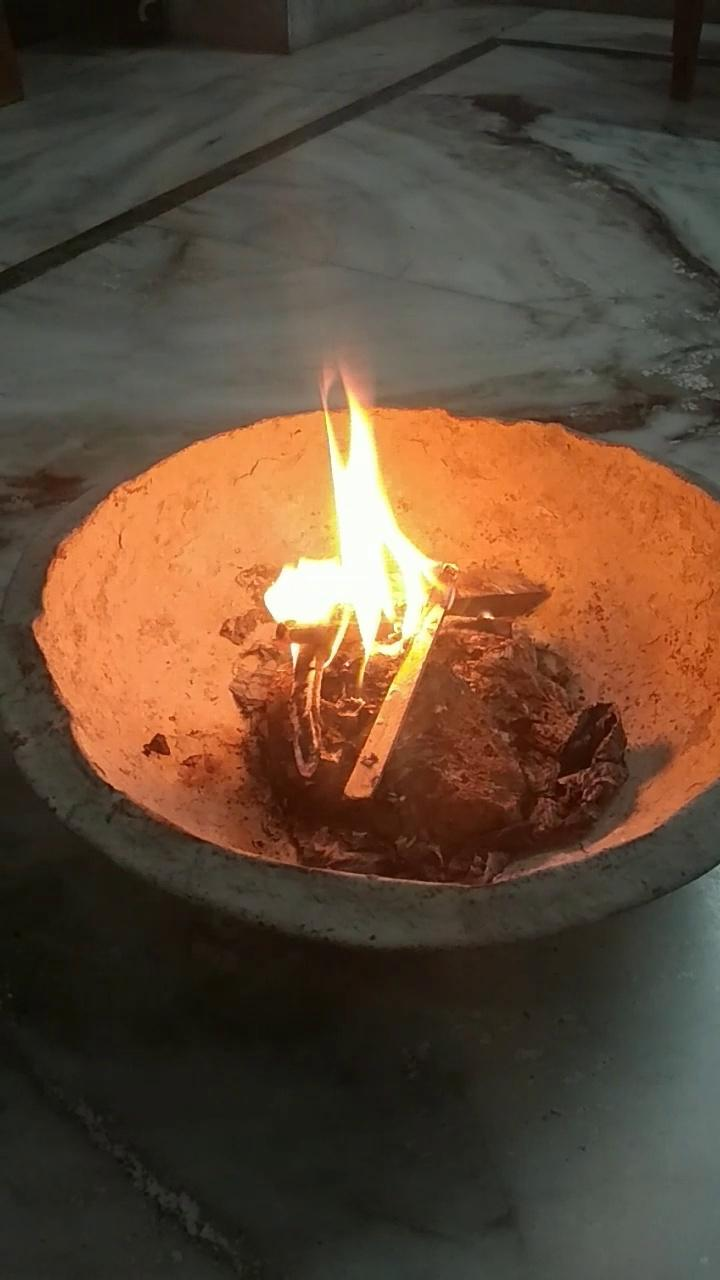fire: (246, 333, 469, 665)
